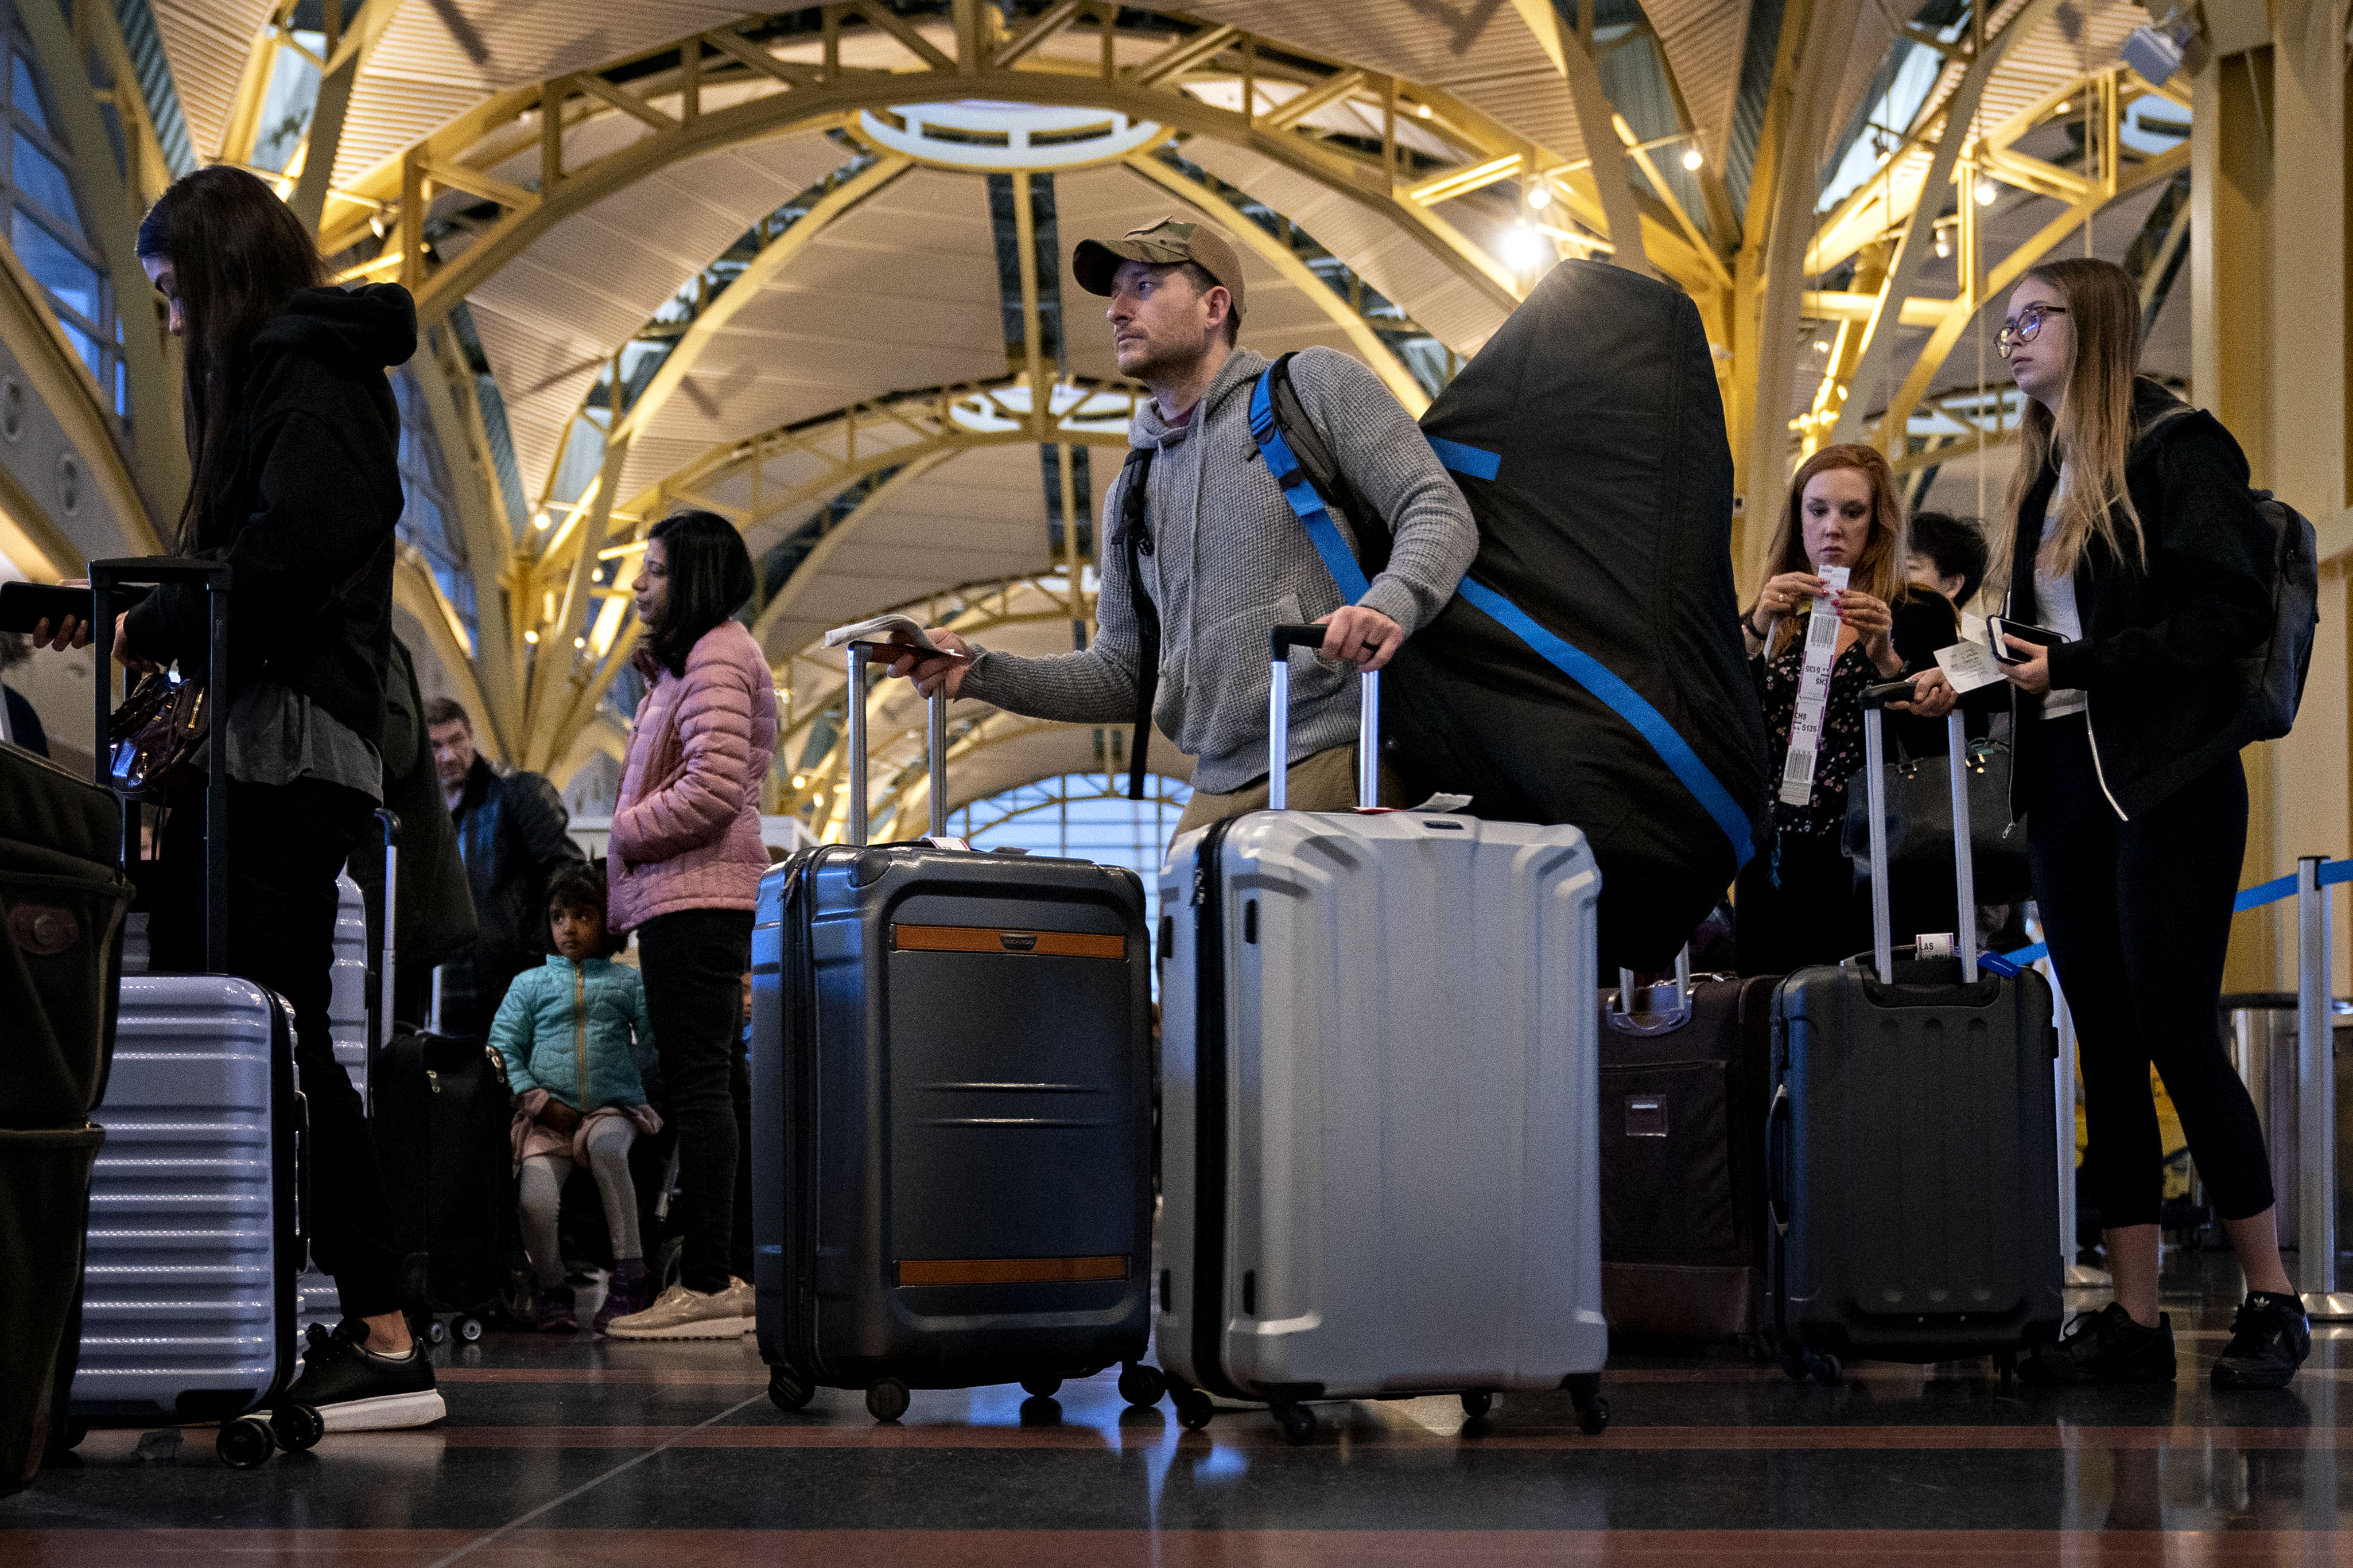backpack: (1251, 271, 1761, 986)
luggage: (1148, 597, 1636, 1441), (722, 608, 1167, 1456), (40, 552, 355, 1487), (1743, 677, 2102, 1419)
people: (1952, 245, 2341, 1431), (564, 519, 810, 1376), (476, 892, 681, 1330)
